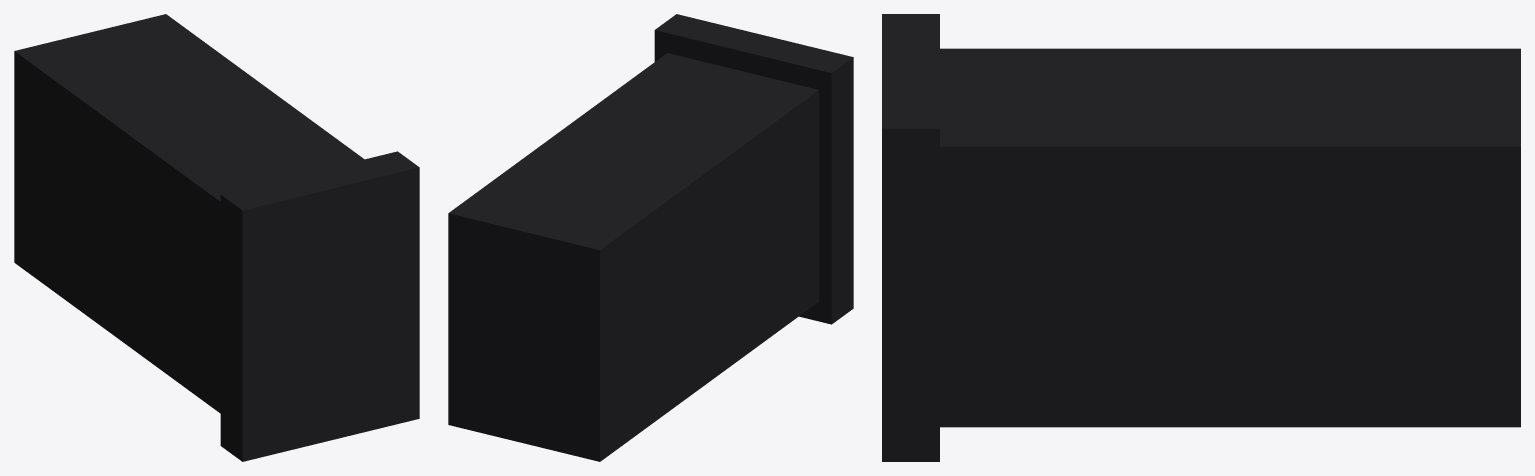
File: MkII_Mag10.fbx
3 views of the same model, side by side, from view 1: azimuth 30°, elevation 25°; view 2: azimuth 150°, elevation 25°; view 3: azimuth 270°, elevation 25° (orthographic). The views are drawn at different scales.
Parts seen in each view (by area): view 1: prims; view 2: prims; view 3: prims.
Part boxes in pixels (<box>): prims: <box>14,14,419,461</box>; prims: <box>448,14,853,461</box>; prims: <box>882,14,1520,461</box>.
Bounding box in the file's own units: 0.0168 × 0.0228 × 0.0396.
